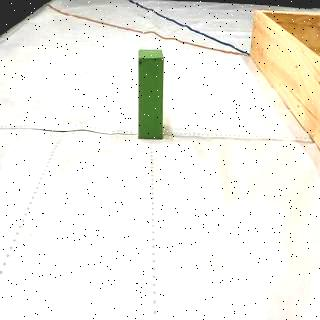greenbox: (138, 48, 166, 138)
